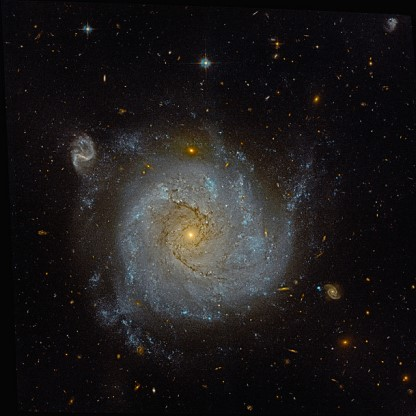NGC 1309: (46, 104, 356, 352)
